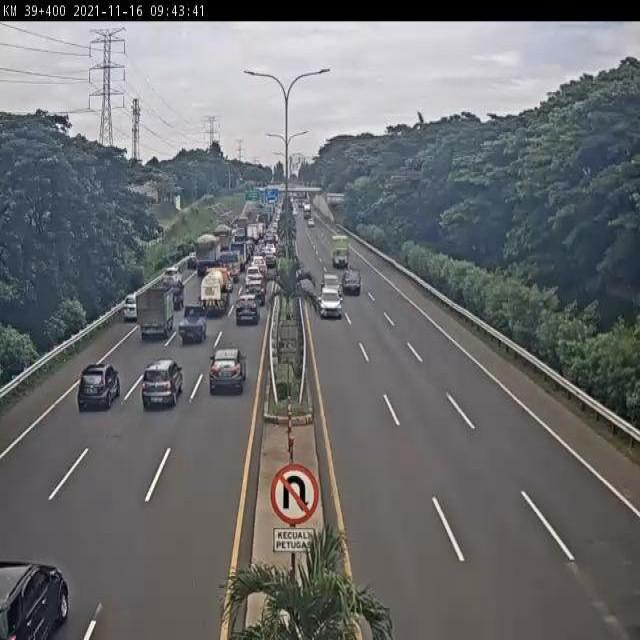car: (0, 556, 74, 640), (70, 352, 129, 417), (134, 352, 189, 416), (202, 344, 248, 400), (176, 304, 210, 349), (229, 296, 261, 335), (314, 282, 344, 322), (115, 287, 142, 324), (340, 265, 365, 300), (164, 277, 189, 311), (242, 279, 267, 309), (154, 271, 176, 296), (244, 263, 264, 285), (180, 253, 197, 276), (246, 275, 267, 293), (252, 253, 267, 272), (264, 251, 278, 268)
small truck: (129, 285, 180, 347), (215, 249, 242, 287), (330, 232, 350, 267)
truck-m-: (197, 264, 234, 319), (188, 233, 222, 284), (212, 222, 234, 255)
